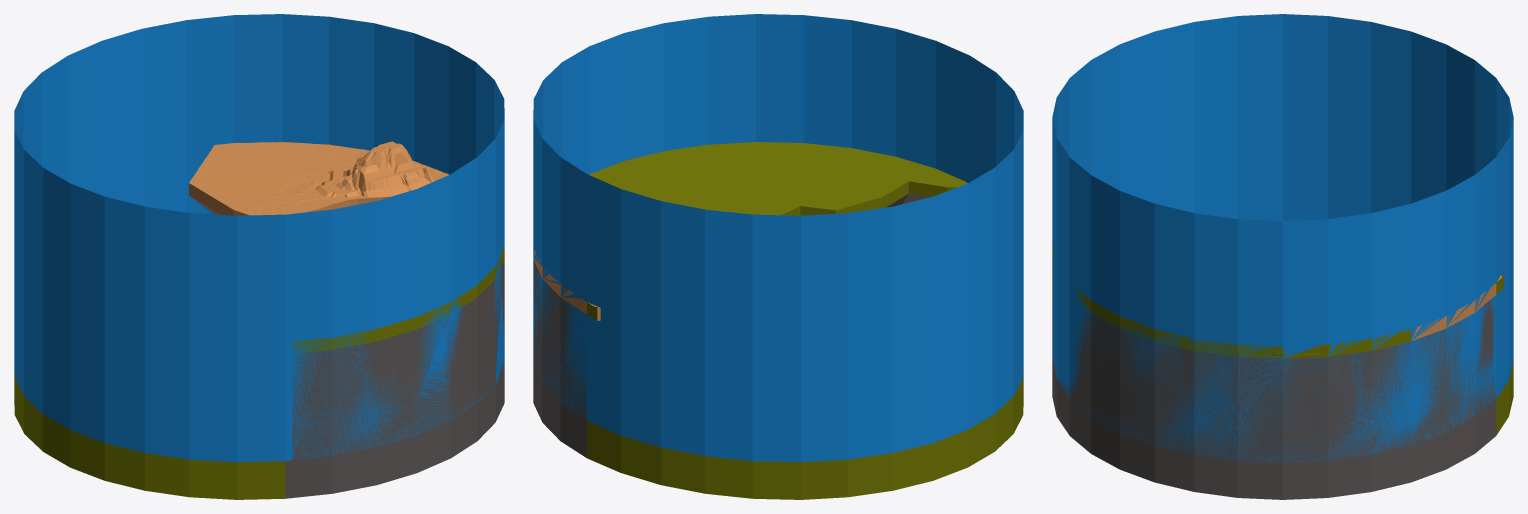
Rendered from World.fbx.
3 renders of one model, left to right at view 1: azimuth 30°, elevation 25°; view 2: azimuth 150°, elevation 25°; view 3: azimuth 270°, elevation 25°, orthographic.
Visible parts, largest first — view 1: Cube.016; view 2: Cube.016; view 3: Cube.016.
Boxes of the visible parts, x1,y1,x2,y2 form: Cube.016: (14, 14, 504, 499); Cube.016: (533, 14, 1023, 499); Cube.016: (1052, 14, 1513, 499).
Size of the model in its own units: 218932 by 137395 by 206067.
